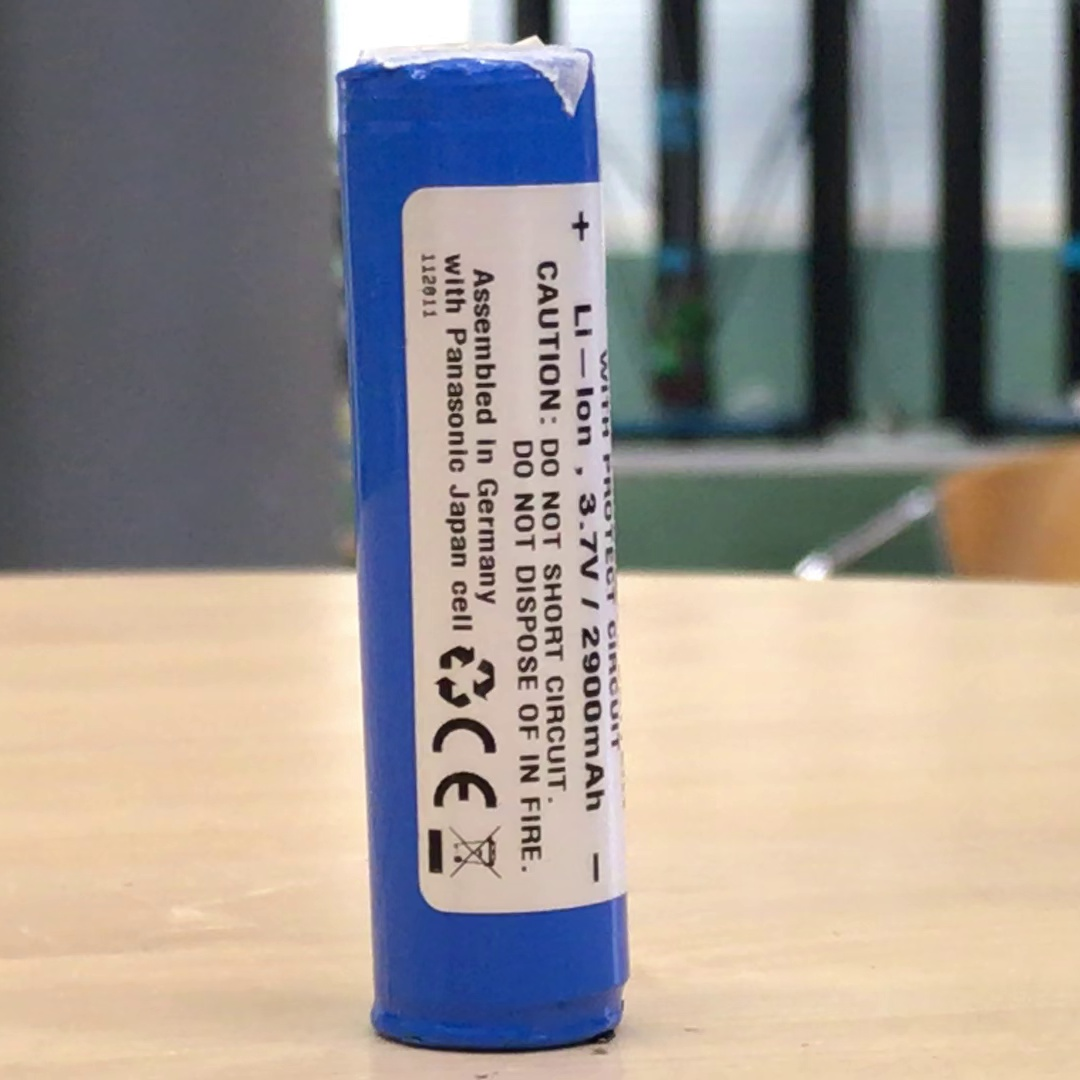keyword: (569, 483, 608, 587)
